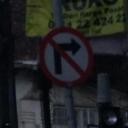NoVirarDireita: (38, 28, 92, 88)
